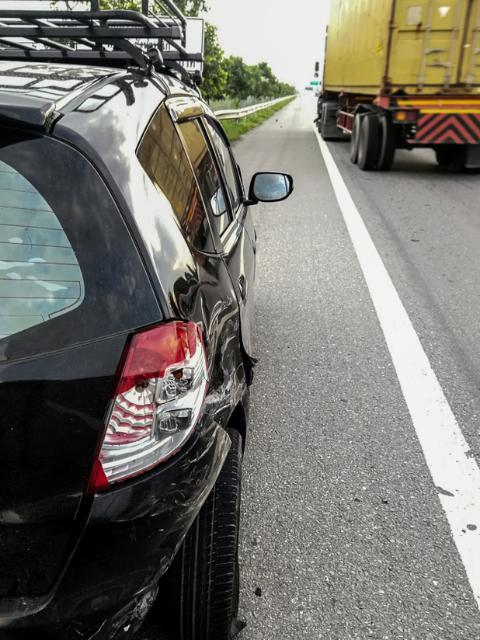Bumper: (0, 432, 230, 640)
Fender: (120, 278, 241, 502)
Light: (76, 327, 213, 497)
